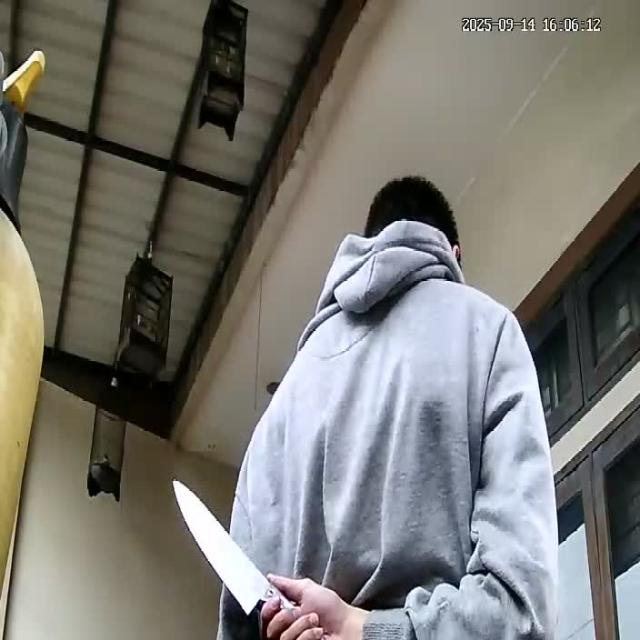senjata_tajam: (170, 476, 270, 617)
